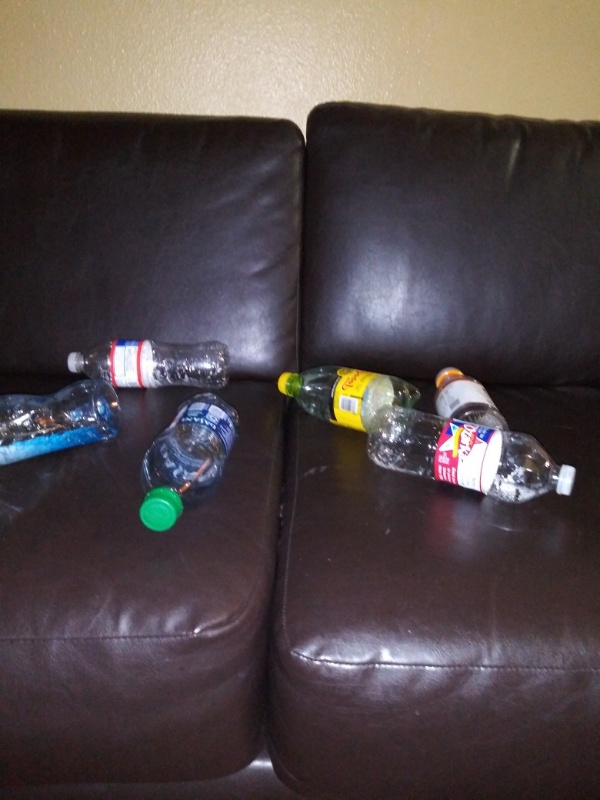bottle: (364, 401, 583, 508), (125, 392, 248, 541), (1, 376, 121, 469), (273, 363, 422, 435), (58, 335, 235, 395), (430, 361, 517, 454)
